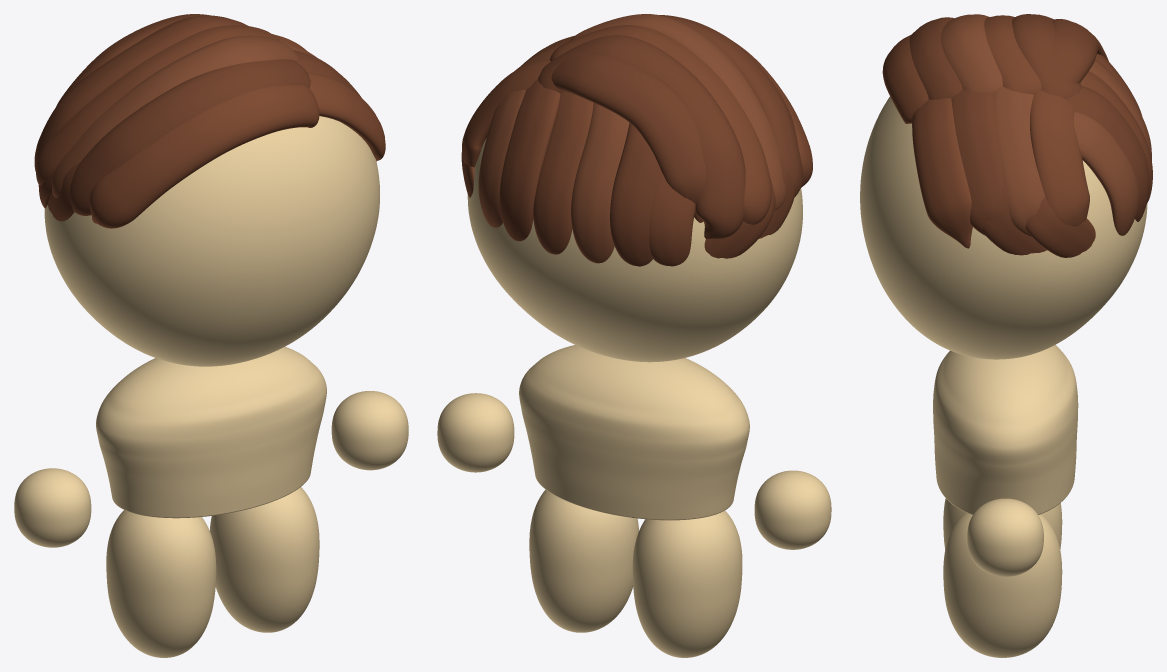
Rendered from Masculine-hair.glb.
3 renders of one model, left to right at view 1: azimuth 30°, elevation 25°; view 2: azimuth 150°, elevation 25°; view 3: azimuth 270°, elevation 25°, orthographic.
Parts seen in each view (by area): view 1: Skin / soft oval head, Skin / rounded torso, Skin / leg blob -1, Skin / leg blob 1, Hair / Side part main 0, Hair / Side part main 1, Hair / Side part main 2, Skin / orb hand -1, Skin / orb hand 1, Hair / Side part main 3, Hair / Side part main 4, Hair / Side part short 0 (+3 smaller); view 2: Skin / rounded torso, Skin / soft oval head, Skin / leg blob -1, Skin / leg blob 1, Hair / Side part crown, Hair / Side part main 4, Hair / Side part nape 2, Hair / Side part nape 3, Hair / Side part main 3, Hair / Side part nape 4, Skin / orb hand 1, Skin / orb hand -1 (+9 smaller); view 3: Skin / soft oval head, Skin / rounded torso, Skin / leg blob 1, Hair / Side part short 0, Hair / Side part short 3, Hair / Side part short 1, Skin / orb hand 1, Hair / Side part short 2, Hair / Side part nape 5, Hair / Side part main 2, Hair / Side part nape 4, Hair / Side part main 4 (+9 smaller).
Boxes of the visible parts, <box> form: Skin / soft oval head: <box>44,116,379,366</box>; Skin / rounded torso: <box>96,346,326,518</box>; Skin / leg blob -1: <box>106,510,216,657</box>; Skin / leg blob 1: <box>209,487,319,632</box>; Hair / Side part main 0: <box>89,85,319,228</box>; Hair / Side part main 1: <box>70,59,310,215</box>; Hair / Side part main 2: <box>52,35,298,197</box>; Skin / orb hand -1: <box>14,468,91,547</box>; Skin / orb hand 1: <box>331,391,408,470</box>; Hair / Side part main 3: <box>35,25,279,185</box>; Hair / Side part main 4: <box>34,15,247,170</box>; Hair / Side part short 0: <box>307,72,385,161</box>; Skin / rounded torso: <box>519,345,749,520</box>; Skin / soft oval head: <box>467,138,802,362</box>; Skin / leg blob -1: <box>632,510,742,657</box>; Skin / leg blob 1: <box>529,489,638,632</box>; Hair / Side part crown: <box>551,54,706,222</box>; Hair / Side part main 4: <box>538,35,745,238</box>; Hair / Side part nape 2: <box>571,103,629,263</box>; Hair / Side part nape 3: <box>533,91,593,254</box>; Hair / Side part main 3: <box>549,25,771,224</box>; Hair / Side part nape 4: <box>499,79,560,241</box>; Skin / orb hand 1: <box>437,393,514,472</box>; Skin / orb hand -1: <box>754,470,831,549</box>; Skin / soft oval head: <box>860,96,1147,359</box>; Skin / rounded torso: <box>933,345,1078,514</box>; Skin / leg blob 1: <box>943,512,1062,657</box>; Hair / Side part short 0: <box>912,98,972,248</box>; Hair / Side part short 3: <box>1030,90,1089,226</box>; Hair / Side part short 1: <box>951,89,1003,235</box>; Skin / orb hand 1: <box>967,498,1043,576</box>; Hair / Side part short 2: <box>992,86,1045,236</box>; Hair / Side part nape 5: <box>1074,112,1138,235</box>; Hair / Side part main 2: <box>941,14,1002,93</box>; Hair / Side part nape 4: <box>1065,86,1149,221</box>; Hair / Side part main 4: <box>1012,14,1081,98</box>.
Bounding box in the file's own units: 1.23 × 1.87 × 0.825.
